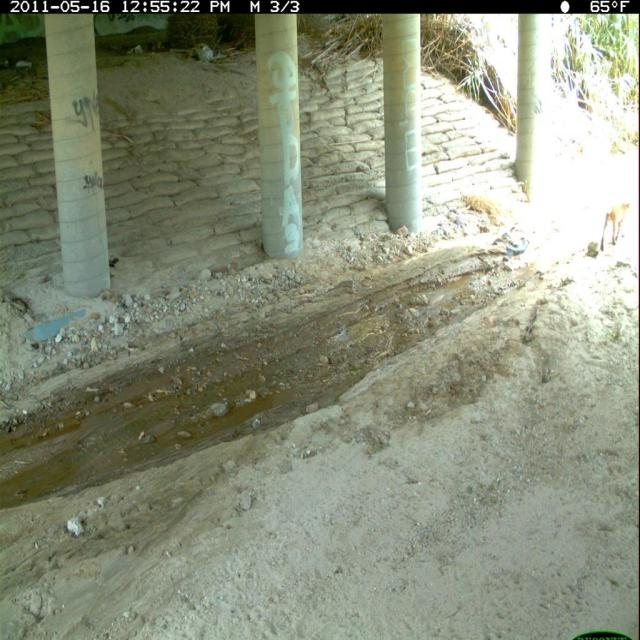bobcat: (599, 198, 633, 257)
